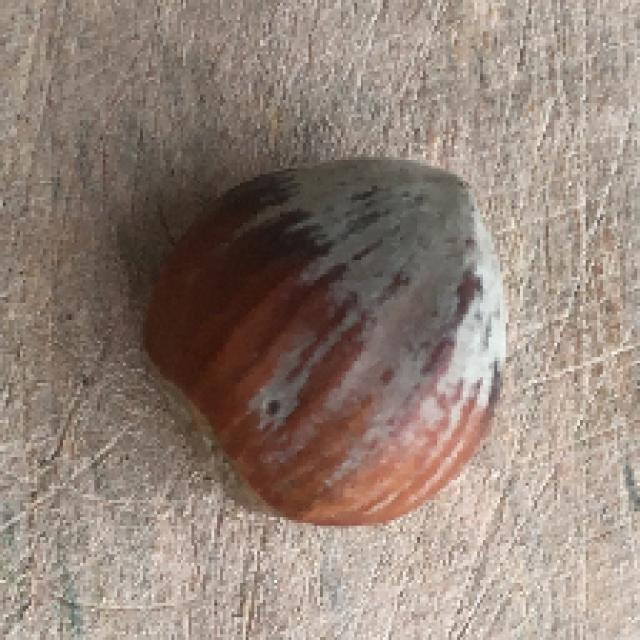damagedHazelnut: (135, 153, 528, 536)
